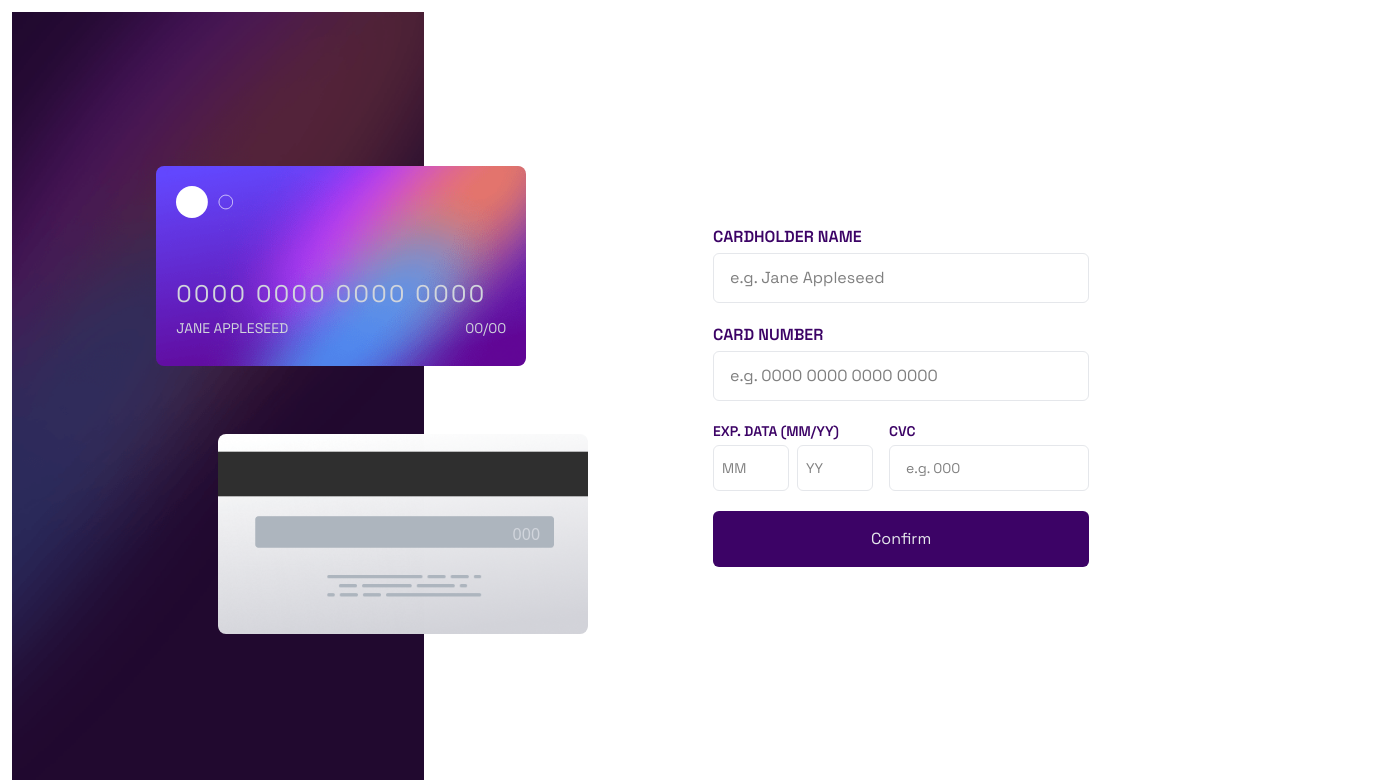
Main Page › should render card info in CardHeader in real time
Type "Jane Appleseed" into the field with placeholder "e.g. Jane Appleseed" at [901, 278], box top-left (713, 253), bottom-right (1089, 303)
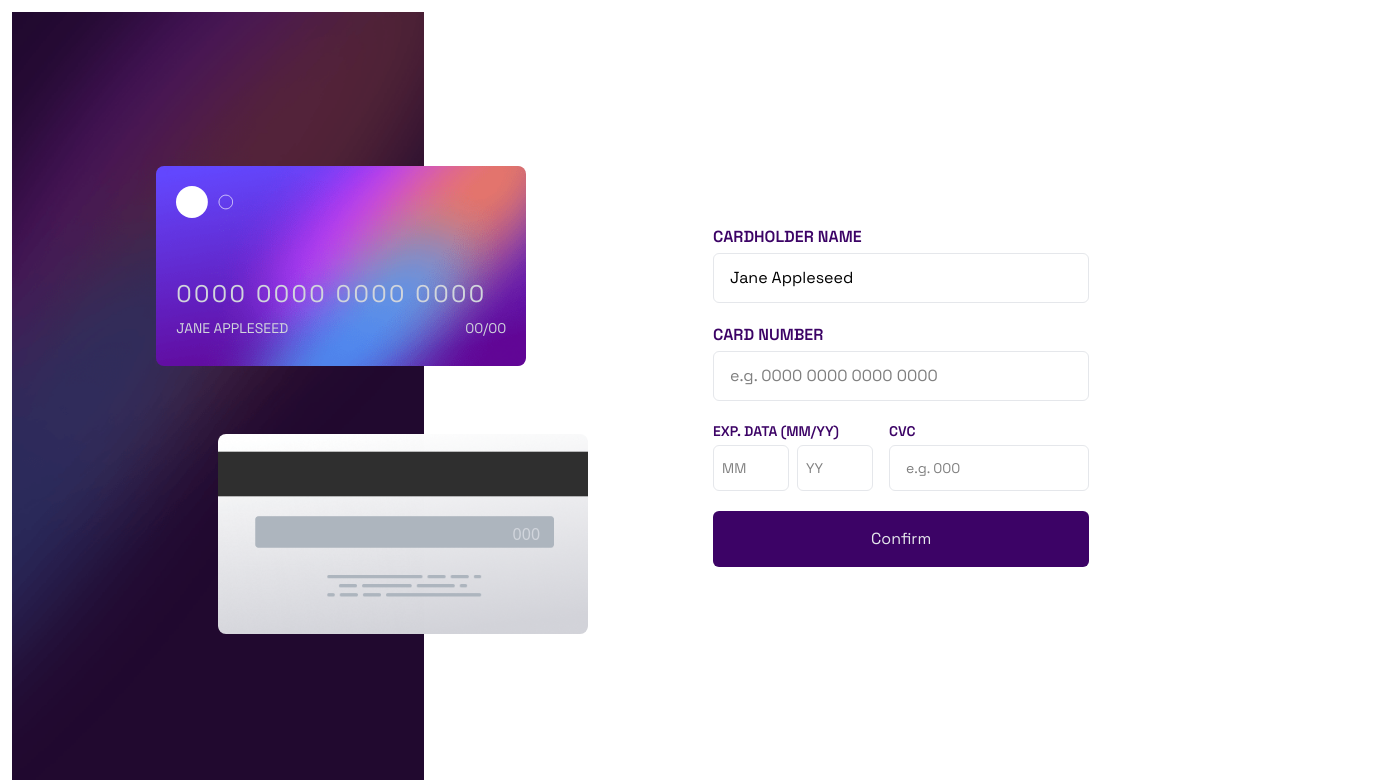
Type "1212 1212 1212 1212" into the field with placeholder "e.g. 0000 0000 0000 0000" at [901, 376], box top-left (713, 351), bottom-right (1089, 401)
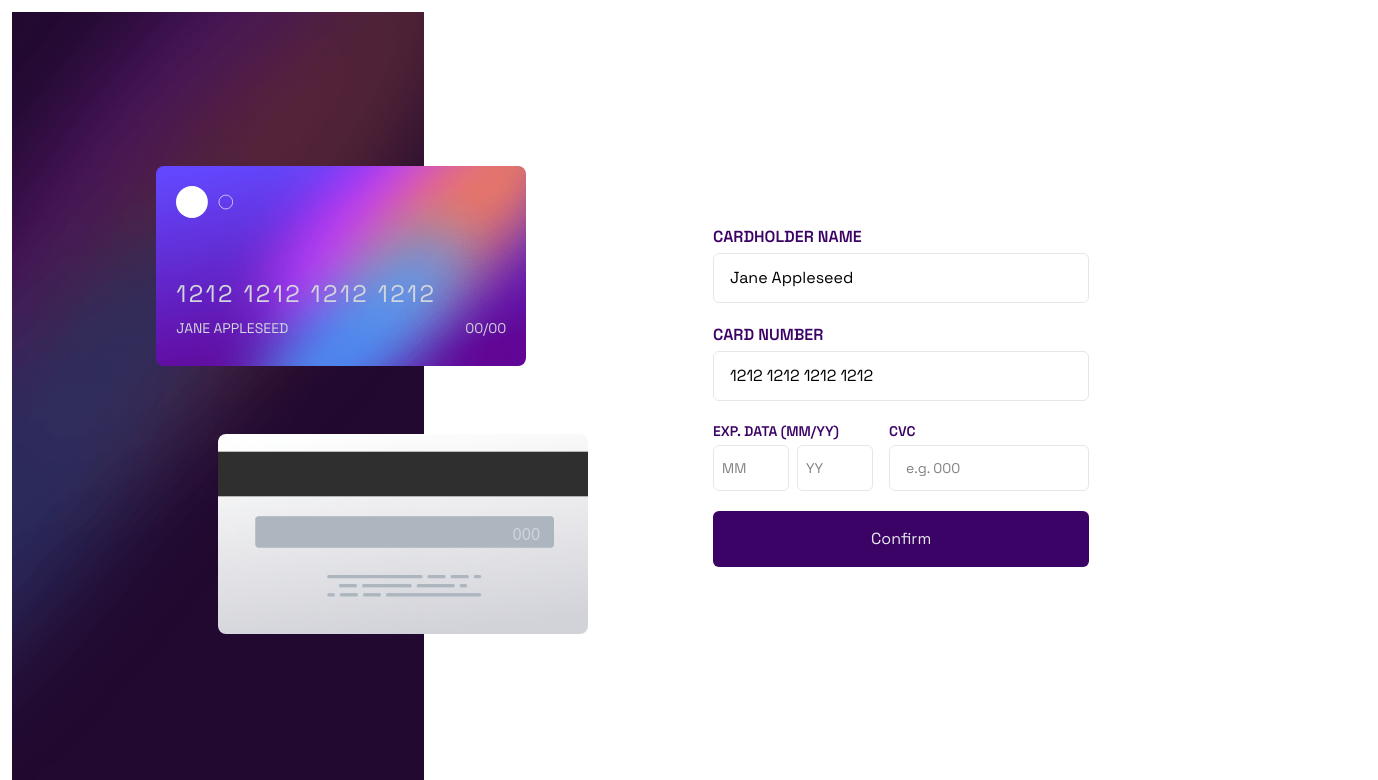
Type "12" into the field with placeholder "MM" at [751, 468], box top-left (713, 445), bottom-right (789, 491)
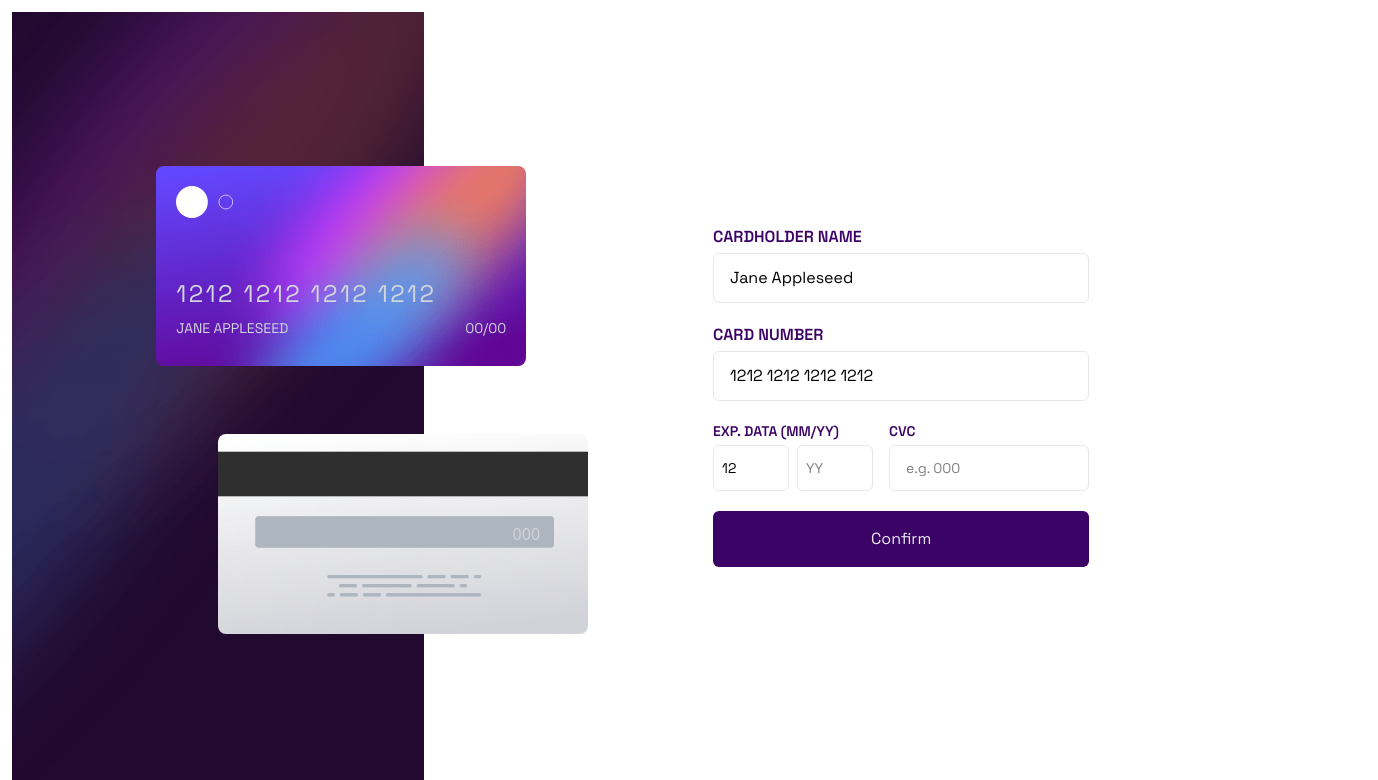
Type "35" into the field with placeholder "YY" at [835, 468], box top-left (797, 445), bottom-right (873, 491)
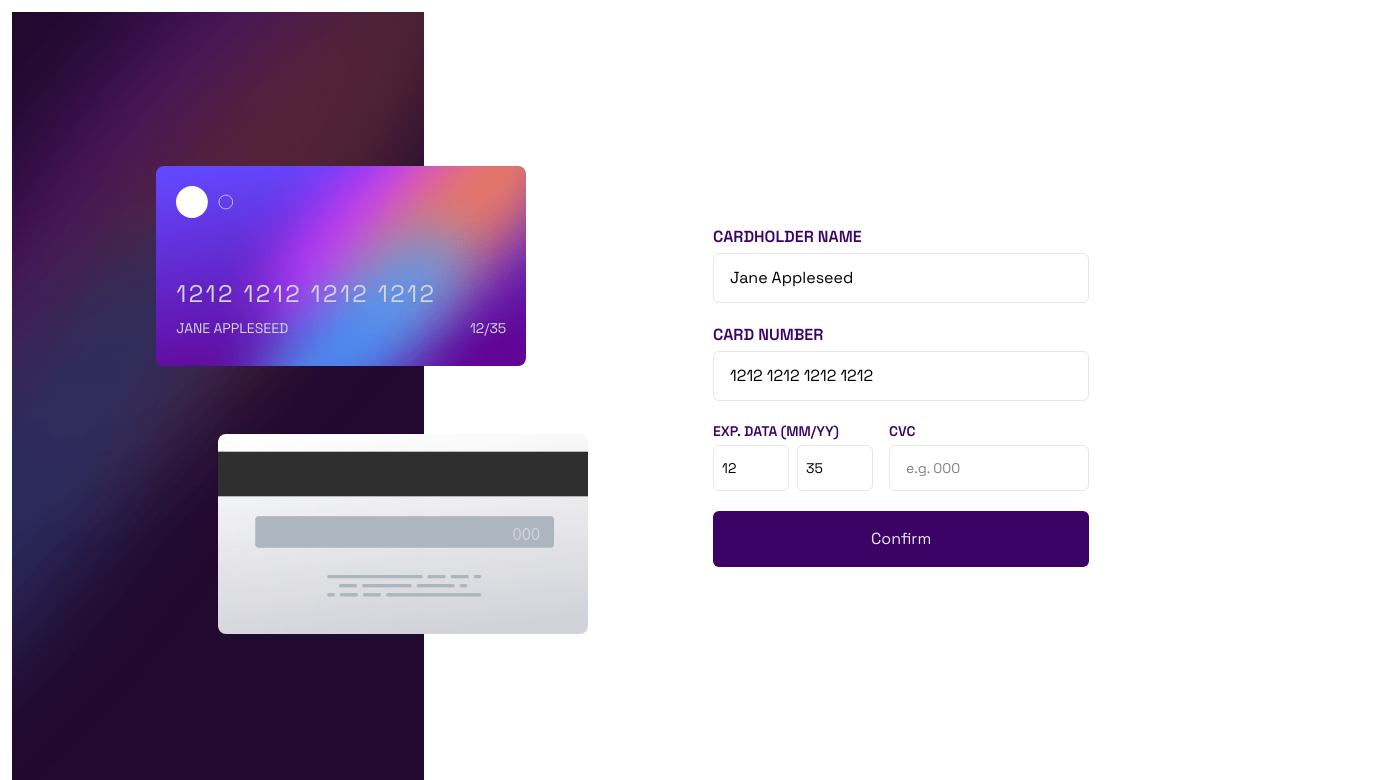
Type "111" into the field with placeholder "e.g. 000" at [989, 468], box top-left (889, 445), bottom-right (1089, 491)
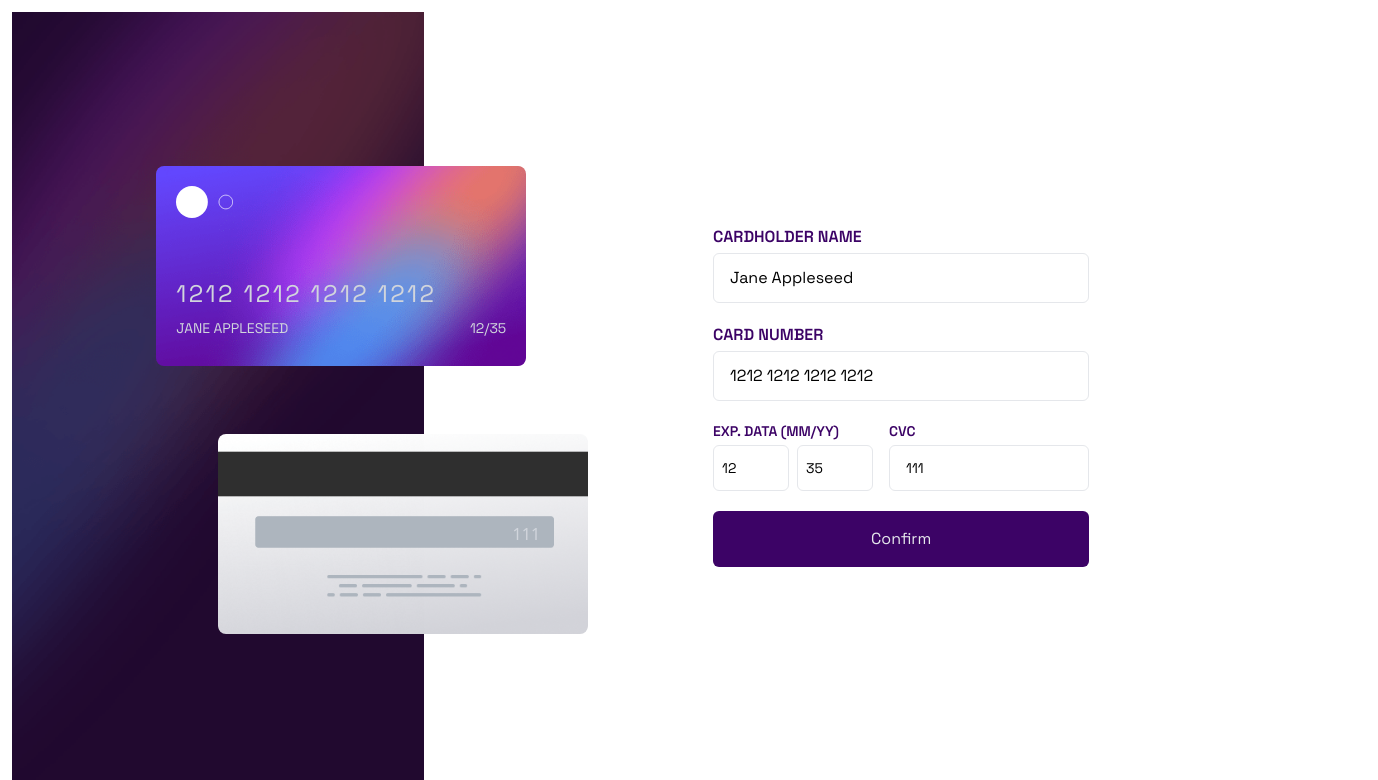
Check: the text "1212 1212 1212 1212" is shown, box top-left (176, 278), bottom-right (436, 309)
Check: the text "12/35" is shown, box top-left (470, 318), bottom-right (506, 338)
Check: the text "111" is shown, box top-left (513, 522), bottom-right (540, 546)
